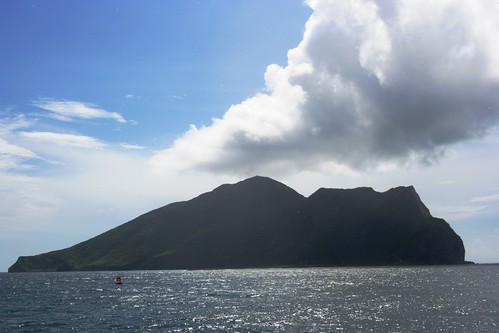turtleIsland: (6, 174, 470, 269)
